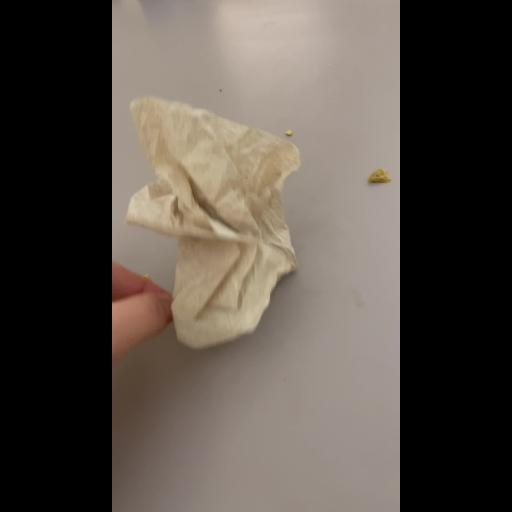napkin: (118, 80, 318, 362)
